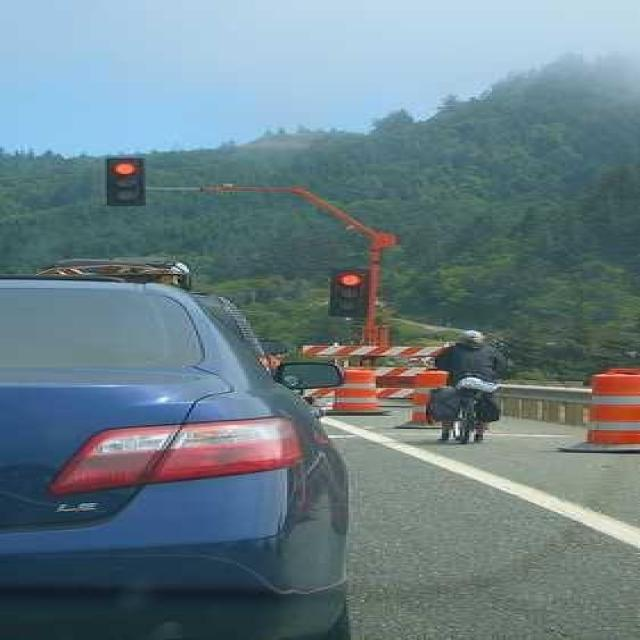Traffic Light -Red-: (99, 157, 148, 210), (322, 268, 375, 317)
